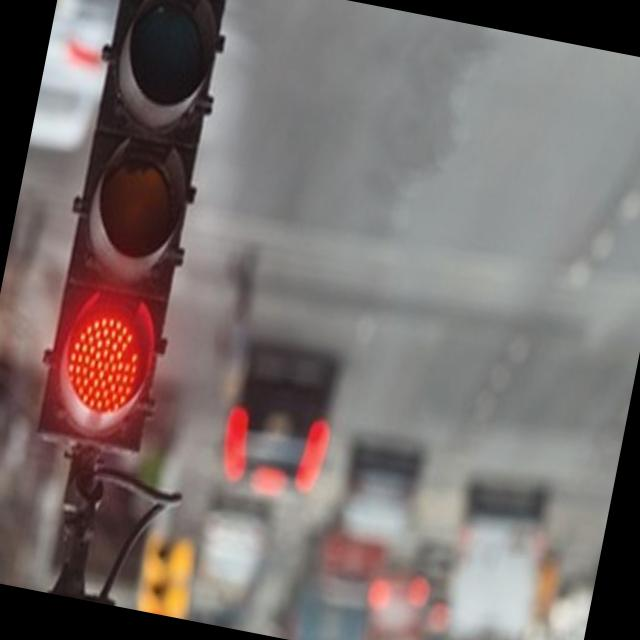red-lights: (56, 304, 148, 422)
